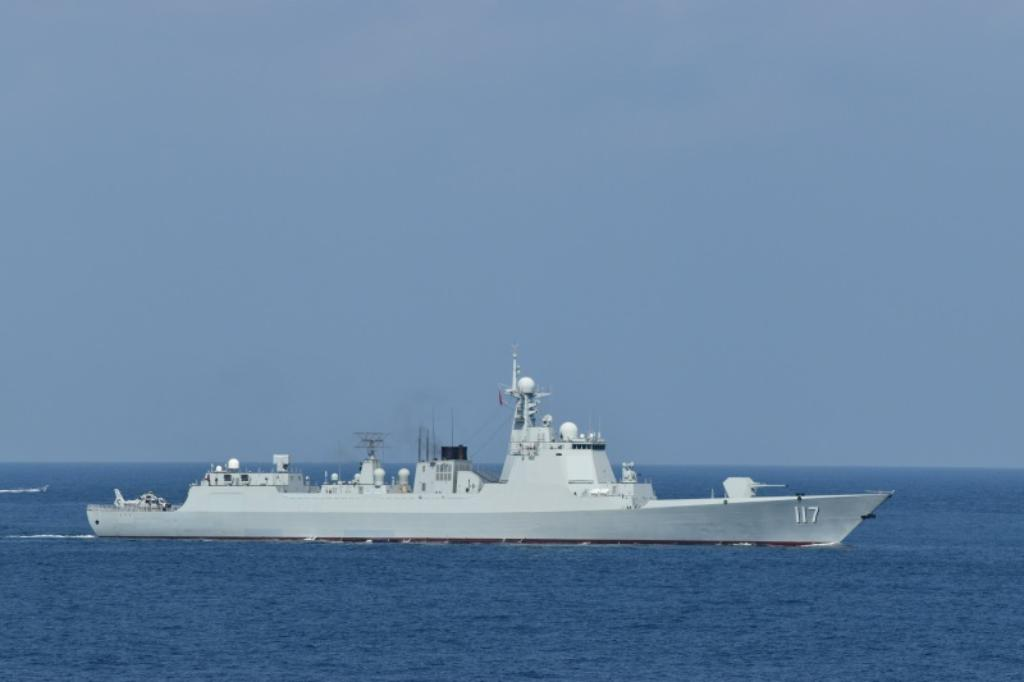Warship: (85, 351, 907, 555)
